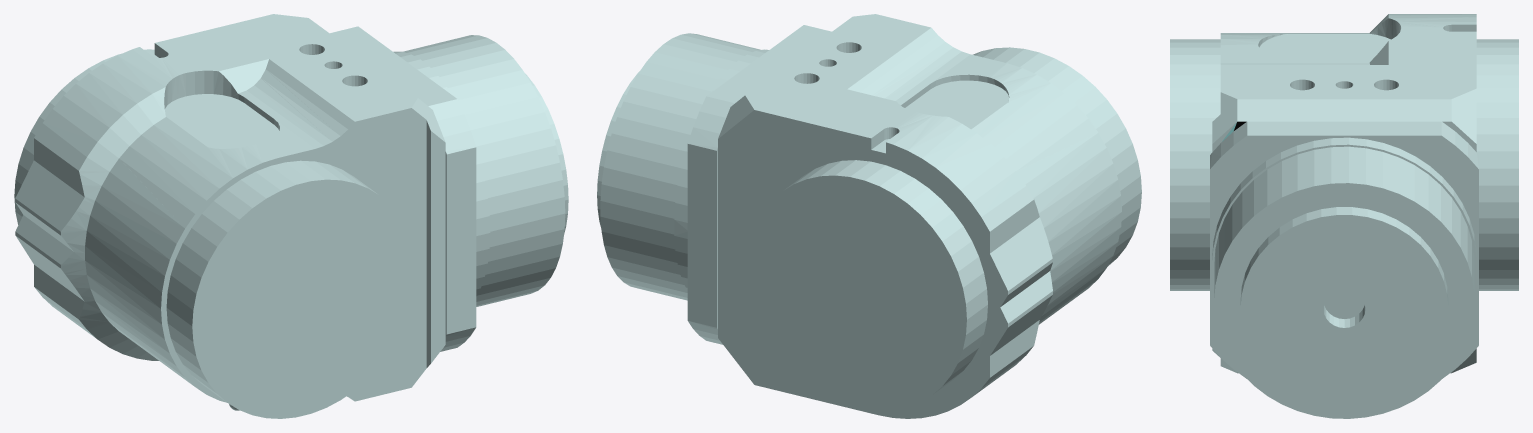
File: axes_5.dae
3 renders of one model, left to right at view 1: azimuth 30°, elevation 25°; view 2: azimuth 150°, elevation 25°; view 3: azimuth 270°, elevation 25°, orthographic. The views are drawn at different scales.
Visible parts, largest first — view 1: ShapeIndexedFaceSet; view 2: ShapeIndexedFaceSet; view 3: ShapeIndexedFaceSet.
Boxes of the visible parts, x1,y1,x2,y2 form: ShapeIndexedFaceSet: [14, 14, 568, 418]; ShapeIndexedFaceSet: [597, 14, 1141, 418]; ShapeIndexedFaceSet: [1170, 14, 1518, 418].
Size of the model in its own units: 116 by 83 by 77.
